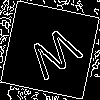W: (25, 25, 90, 90)
